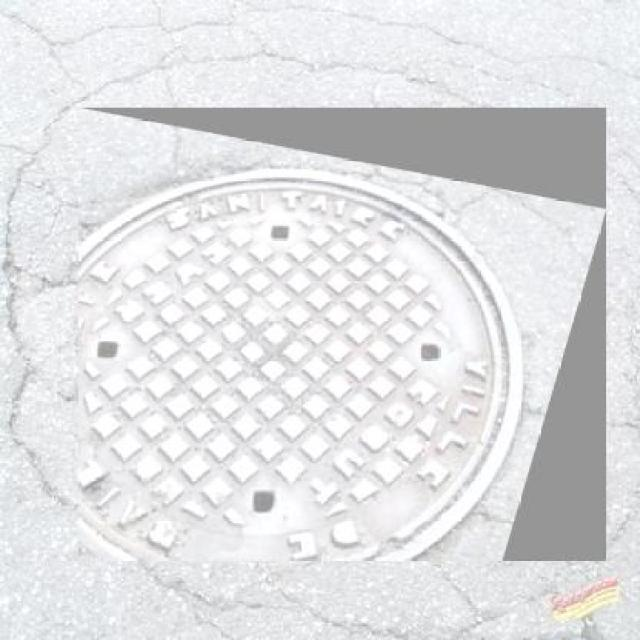Manhole: (79, 108, 606, 560)
